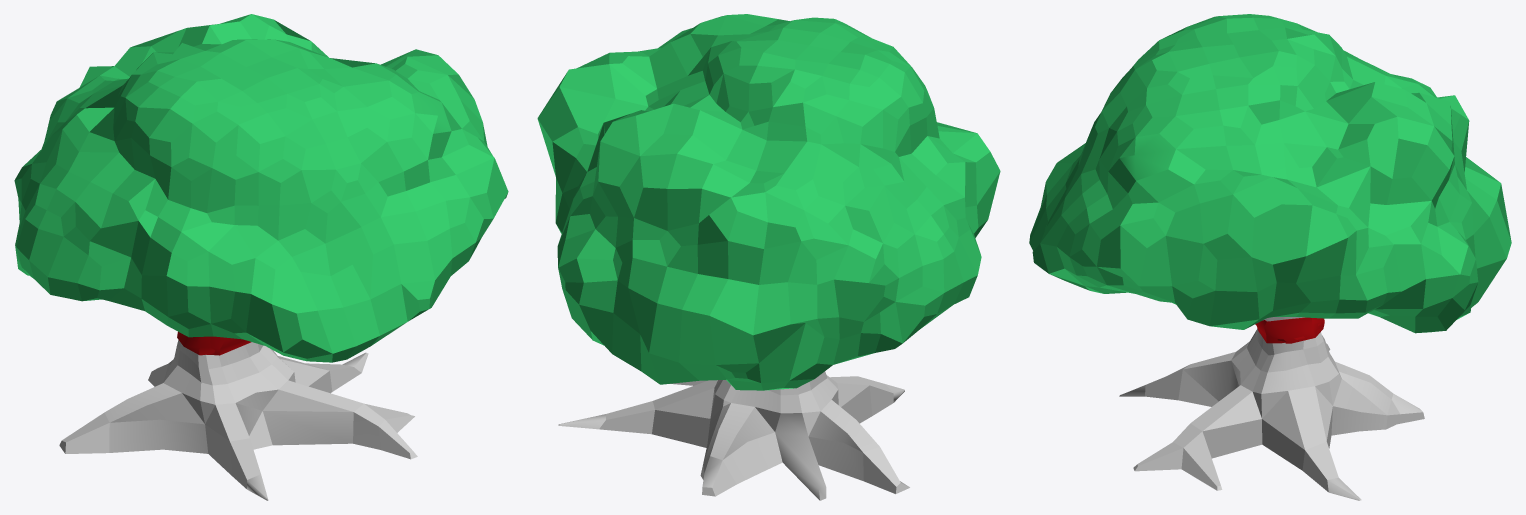
Rendered from tree2 1.fbx.
3 renders of one model, left to right at view 1: azimuth 30°, elevation 25°; view 2: azimuth 150°, elevation 25°; view 3: azimuth 270°, elevation 25°, orthographic. The views are drawn at different scales.
Parts seen in each view (by area): view 1: Founders, ribbon_ROUND; view 2: Founders; view 3: Founders, ribbon_ROUND.
Part boxes in pixels (x1,y1,x2,y2): Founders: (14, 14, 508, 500); ribbon_ROUND: (177, 331, 251, 355); Founders: (537, 14, 1000, 500); Founders: (1029, 14, 1511, 500); ribbon_ROUND: (1255, 317, 1324, 343).
Bounding box in the file's own units: 204 × 184 × 209.
